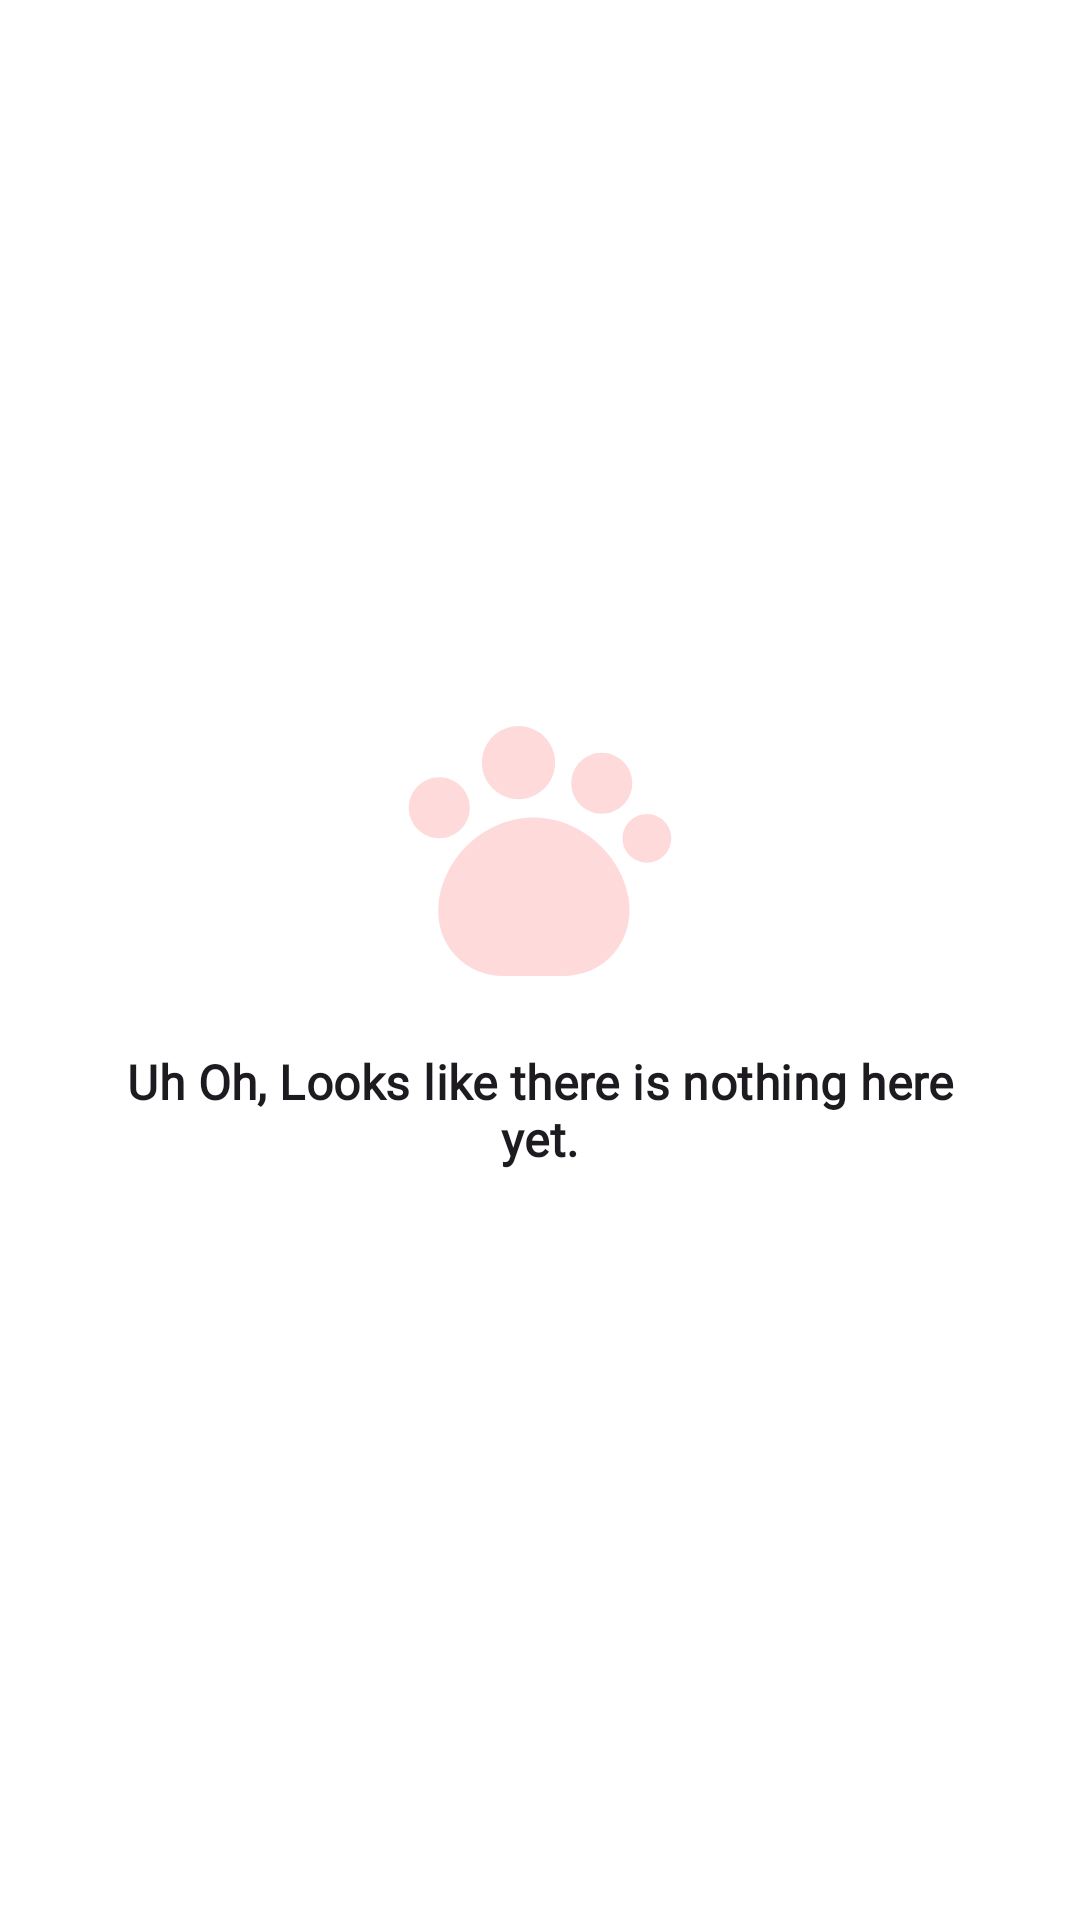

Icons on this 1080px x 1920px Android screen, each with the point to tap as point (x, y):
pet: point (540, 851)
